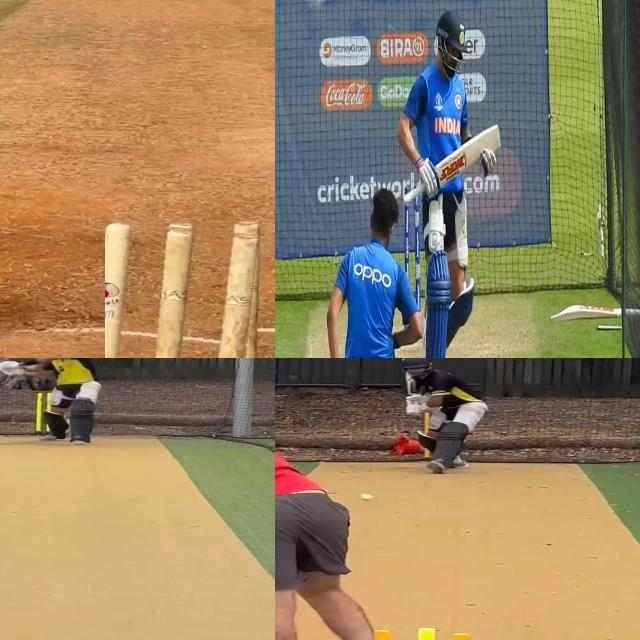Cricket ball: (360, 492, 376, 501)
Stumps: (105, 220, 259, 358)
